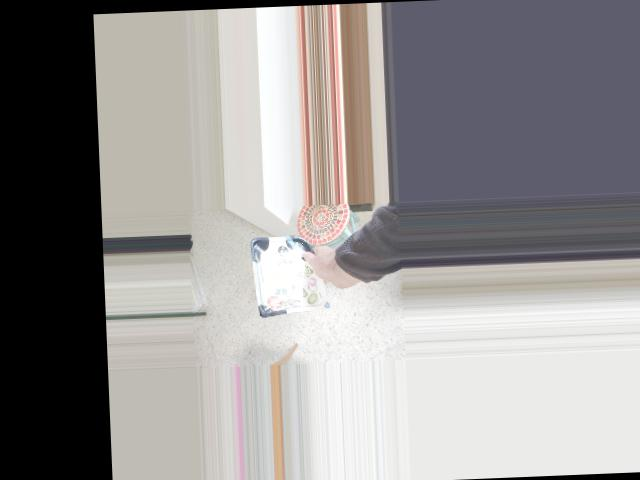cheese: (266, 232, 356, 314)
